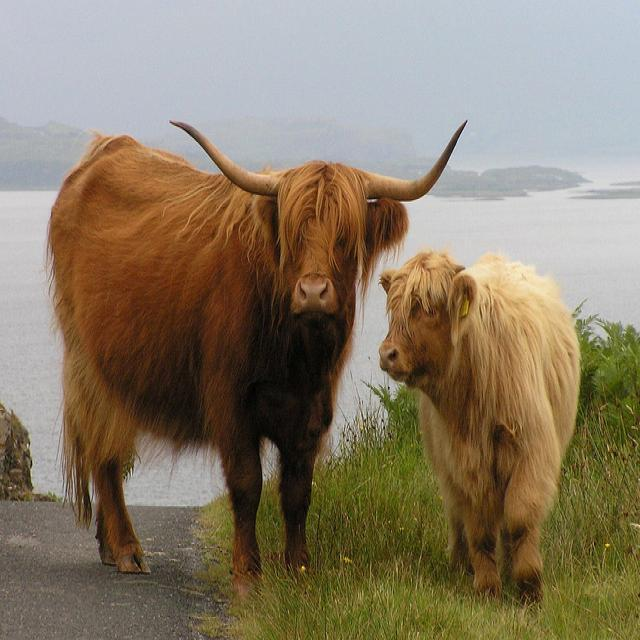cow: (47, 115, 465, 598), (375, 245, 584, 605)
